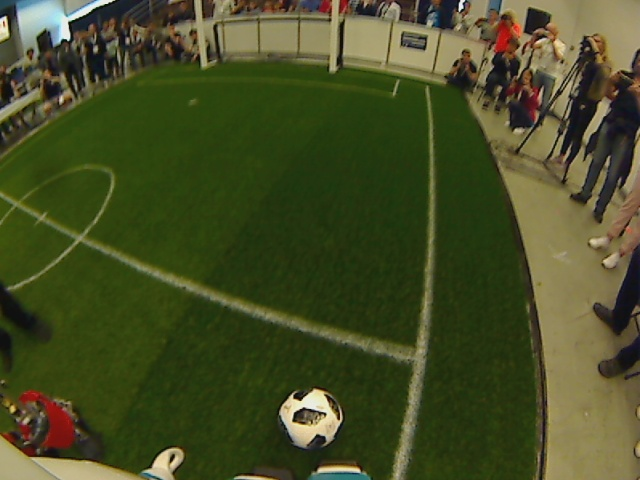ball: (276, 384, 343, 456)
